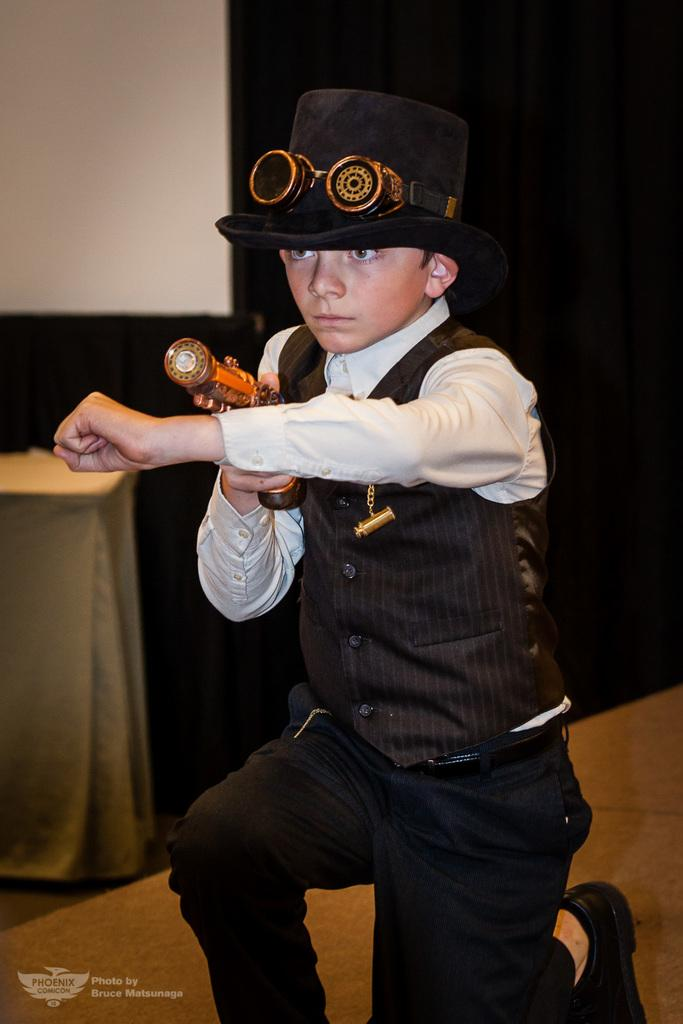Hat: (210, 87, 506, 308)
